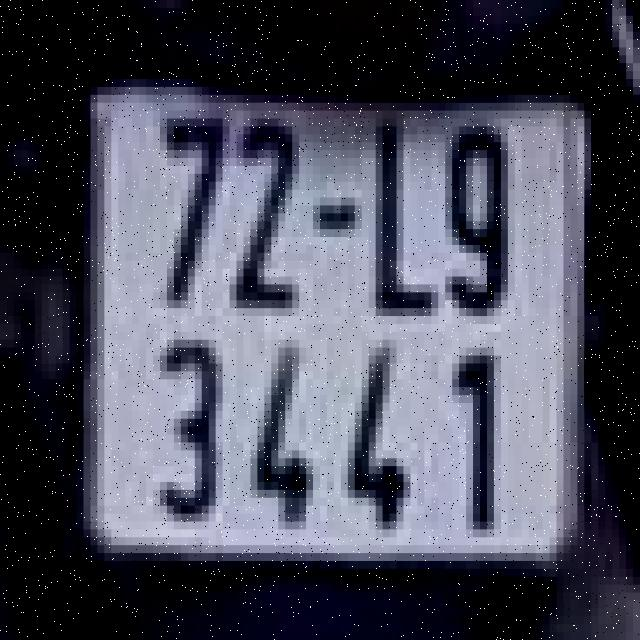1: (445, 348, 508, 545)
2: (237, 118, 306, 324)
3: (146, 320, 237, 533)
4: (337, 340, 421, 529), (250, 332, 320, 537)
7: (146, 115, 230, 312)
9: (438, 122, 522, 320)
L: (365, 118, 442, 324)
